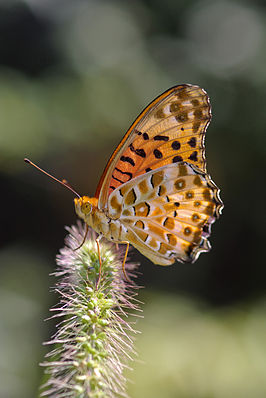Argyreus hyperbius: (20, 78, 224, 291)
butterfly: (22, 80, 226, 293)
